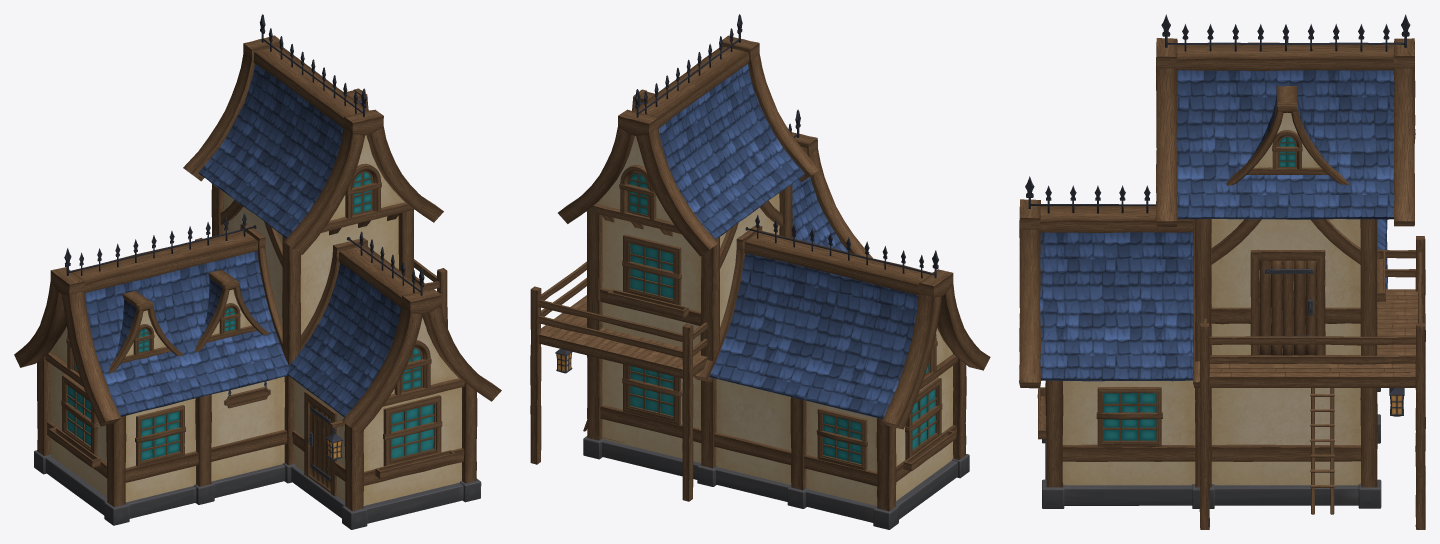
File: Fantasy_House.glb
3 renders of one model, left to right at view 1: azimuth 30°, elevation 25°; view 2: azimuth 150°, elevation 25°; view 3: azimuth 270°, elevation 25°, orthographic. The views are drawn at different scales.
Parts seen in each view (by area): view 1: Wood_Trim, Roof, Walls_and_Floors, Windows, Foundation, Roof_Railing, Planters, Door_001, Sign; view 2: Wood_Trim, Roof, Walls_and_Floors, Windows, Foundation, Roof_Railing, Planters; view 3: Wood_Trim, Roof, Walls_and_Floors, Foundation, Door, Windows, Roof_Railing, Ladder, Planters.
Boxes of the visible parts, x1,y1,x2,y2 form: Wood_Trim: [14, 35, 501, 510]; Roof: [57, 64, 425, 417]; Walls_and_Floors: [50, 135, 461, 505]; Windows: [61, 163, 442, 466]; Foundation: [34, 450, 481, 529]; Roof_Railing: [64, 14, 424, 295]; Planters: [48, 427, 455, 478]; Door_001: [307, 403, 330, 489]; Sign: [224, 381, 270, 408]; Wood_Trim: [530, 35, 990, 511]; Roof: [639, 64, 949, 419]; Walls_and_Floors: [596, 136, 953, 505]; Windows: [619, 165, 942, 470]; Foundation: [583, 436, 969, 529]; Roof_Railing: [634, 14, 938, 278]; Planters: [607, 289, 955, 470]; Wood_Trim: [1019, 38, 1425, 529]; Roof: [1040, 70, 1394, 381]; Walls_and_Floors: [1062, 112, 1360, 485]; Foundation: [1042, 388, 1381, 508]; Door: [1259, 260, 1316, 355]; Windows: [1096, 130, 1302, 446]; Roof_Railing: [1025, 14, 1410, 213]; Ladder: [1310, 388, 1334, 514]; Planters: [1037, 249, 1385, 439].
Bounding box in the file's own units: 11.83 × 12.51 × 10.02.
10 materials, 10 textured.
